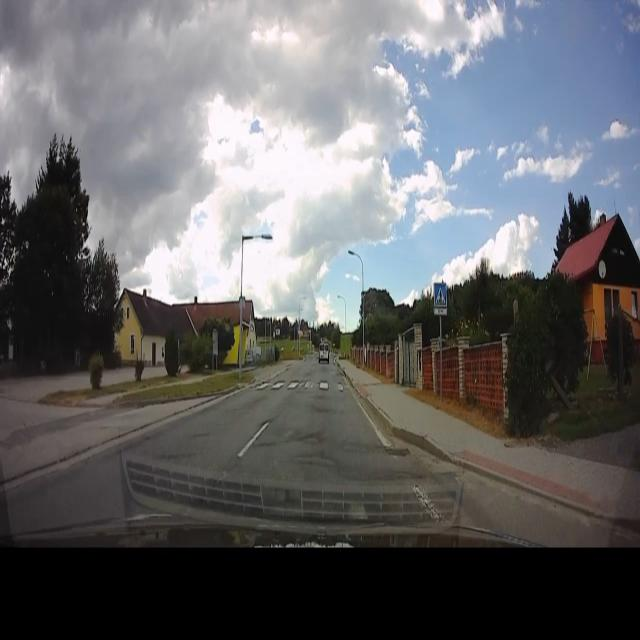Pedestrian crosswalk: (253, 373, 351, 395), (432, 280, 447, 307)
